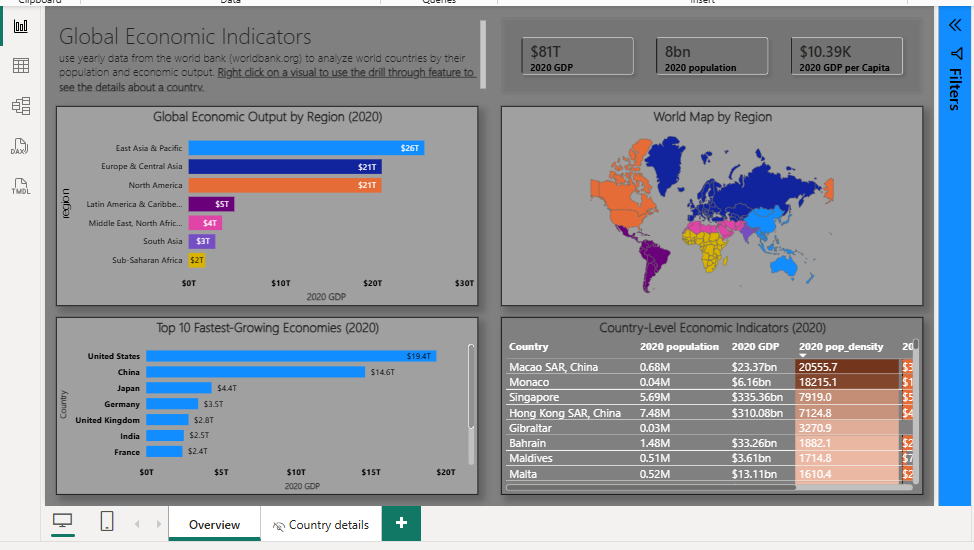

Layout of this report page (visuals, bound fields, positions):
{"tool":"powerbi","page":{"name":"Overview","canvas":[1280,720],"ordinal":0},"visuals":[{"type":"tableEx","title":"Country-Level Economic Indicators (2020)","fields":{"Values":["Countries.name","_measures.2020 population","_measures.2020 GDP","_measures.2020 pop_density","_measures.2020 GDP per Capita","SparklineData(_measures.GDP_[indicators.Year])"]},"box":[656,448,608,256],"z":0},{"type":"shapeMap","title":"World Map by Region","fields":{"Category":["Countries.iso2Code"],"Series":["Countries.region"],"Value":["CountNonNull(Countries.id)"]},"box":[656,144,608,288],"z":1000},{"type":"textbox","box":[16,16,624,112],"z":2000},{"type":"barChart","title":"Global Economic Output by Region (2020)","fields":{"Category":["Countries.region"],"Y":["_measures.2020 GDP"],"Series":["Countries.region"]},"box":[16,144,608,288],"z":2001},{"type":"cardVisual","fields":{"Data":["_measures.2020 GDP","_measures.2020 population","_measures.2020 GDP per Capita"]},"box":[656,16,608,112],"z":2002},{"type":"barChart","title":"Top 10 Fastest-Growing Economies (2020)","fields":{"Category":["Countries.Country"],"Y":["_measures.2020 GDP"]},"box":[16,448,608,256],"z":2003}]}

Visuals, with their boxes on the page's 1280x720 design canvas (x1, y1, x2, y2). These are canvas units, not pixel positions in the 974x550 screenshot, which may show the page scaled, cropped or inside an application window:
"Country-Level Economic Indicators (2020)" tableEx: bbox(656, 448, 1264, 704)
"World Map by Region" shapeMap: bbox(656, 144, 1264, 432)
textbox: bbox(16, 16, 640, 128)
"Global Economic Output by Region (2020)" barChart: bbox(16, 144, 624, 432)
cardVisual - _measures.2020 GDP x _measures.2020 population: bbox(656, 16, 1264, 128)
"Top 10 Fastest-Growing Economies (2020)" barChart: bbox(16, 448, 624, 704)
